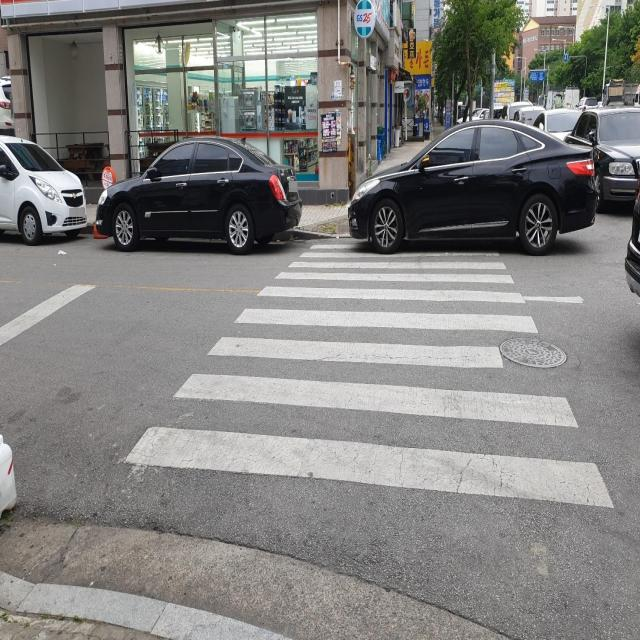횡단보도: (121, 243, 615, 512)
